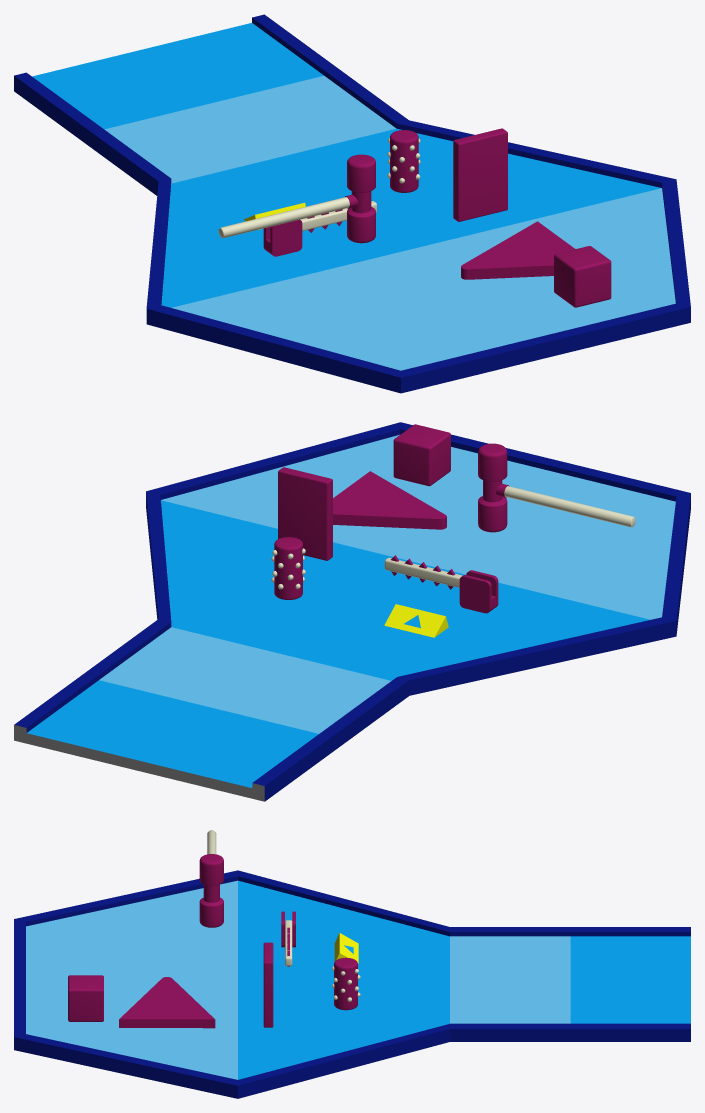
Rendered from HyperCasualObstacles.fbx.
3 views of the same model, one above another, from view 1: azimuth 30°, elevation 25°; view 2: azimuth 150°, elevation 25°; view 3: azimuth 270°, elevation 25° (orthographic). The views are drawn at different scales.
Visible parts, largest first — view 1: Son_Alan, Yol, Hareketli_Engel, Cekic, Ucgen, Sabit_Engel, Doner, Bariyer_Ayagi, Bariyer_Kolu; view 2: Son_Alan, Yol, Ucgen, Hareketli_Engel, Cekic, Sabit_Engel, Doner, Bariyer_Ayagi, Hizlandirici, Bariyer_Kolu; view 3: Son_Alan, Yol, Ucgen, Cekic, Sabit_Engel, Doner, Hareketli_Engel, Hizlandirici.
Part boxes in pixels (bbox=[...]): Son_Alan: bbox=[146, 120, 690, 393]; Yol: bbox=[14, 14, 408, 195]; Hareketli_Engel: bbox=[453, 128, 507, 221]; Cekic: bbox=[218, 154, 375, 243]; Ucgen: bbox=[461, 221, 575, 279]; Sabit_Engel: bbox=[554, 246, 611, 307]; Doner: bbox=[387, 130, 420, 192]; Bariyer_Ayagi: bbox=[263, 219, 302, 256]; Bariyer_Kolu: bbox=[300, 201, 376, 232]; Son_Alan: bbox=[146, 422, 690, 695]; Yol: bbox=[14, 619, 409, 801]; Ucgen: bbox=[333, 471, 446, 529]; Hareketli_Engel: bbox=[278, 467, 332, 560]; Cekic: bbox=[478, 443, 635, 532]; Sabit_Engel: bbox=[393, 424, 450, 486]; Doner: bbox=[271, 537, 305, 599]; Bariyer_Ayagi: bbox=[459, 570, 498, 613]; Hizlandirici: bbox=[384, 604, 448, 637]; Bariyer_Kolu: bbox=[384, 555, 462, 589]; Son_Alan: bbox=[14, 870, 449, 1098]; Yol: bbox=[450, 927, 690, 1041]; Ucgen: bbox=[119, 977, 215, 1028]; Cekic: bbox=[199, 830, 223, 927]; Sabit_Engel: bbox=[68, 975, 103, 1021]; Doner: bbox=[332, 957, 360, 1010]; Hareketli_Engel: bbox=[263, 942, 273, 1027]; Hizlandirici: bbox=[334, 933, 358, 963].
Size of the model in its own units: 1058 by 243 by 1405.
